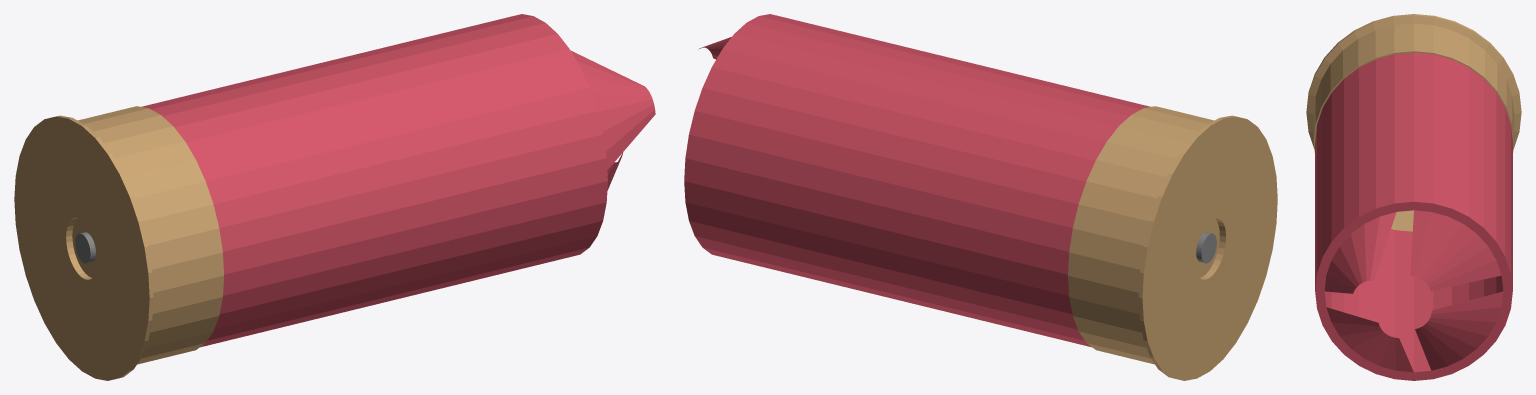
Rendered from ShotgunShell.fbx.
3 views of the same model, side by side, from view 1: azimuth 30°, elevation 25°; view 2: azimuth 150°, elevation 25°; view 3: azimuth 270°, elevation 25° (orthographic). The views are drawn at different scales.
Parts seen in each view (by area): view 1: Cylinder; view 2: Cylinder; view 3: Cylinder.
Part boxes in pixels (x1,y1,x2,y2): Cylinder: (14,14,655,380); Cylinder: (684,14,1277,380); Cylinder: (1306,14,1521,380).
Size of the model in its own units: 8.26 by 3.6 by 3.6.
